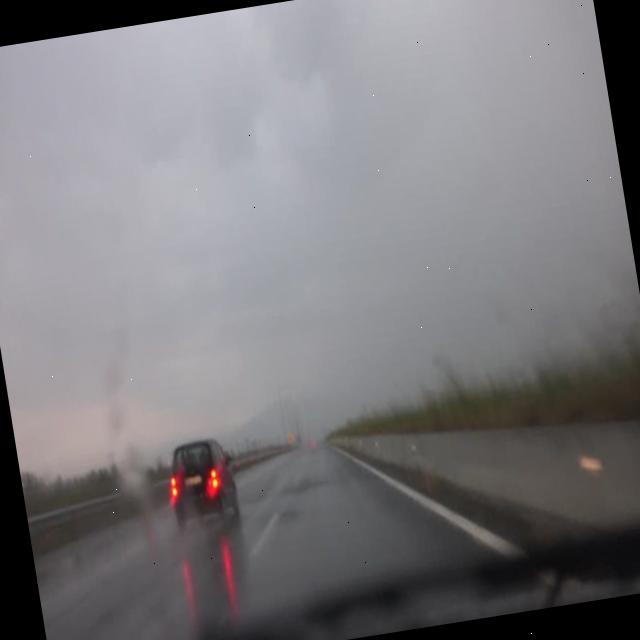car: (159, 435, 244, 535)
